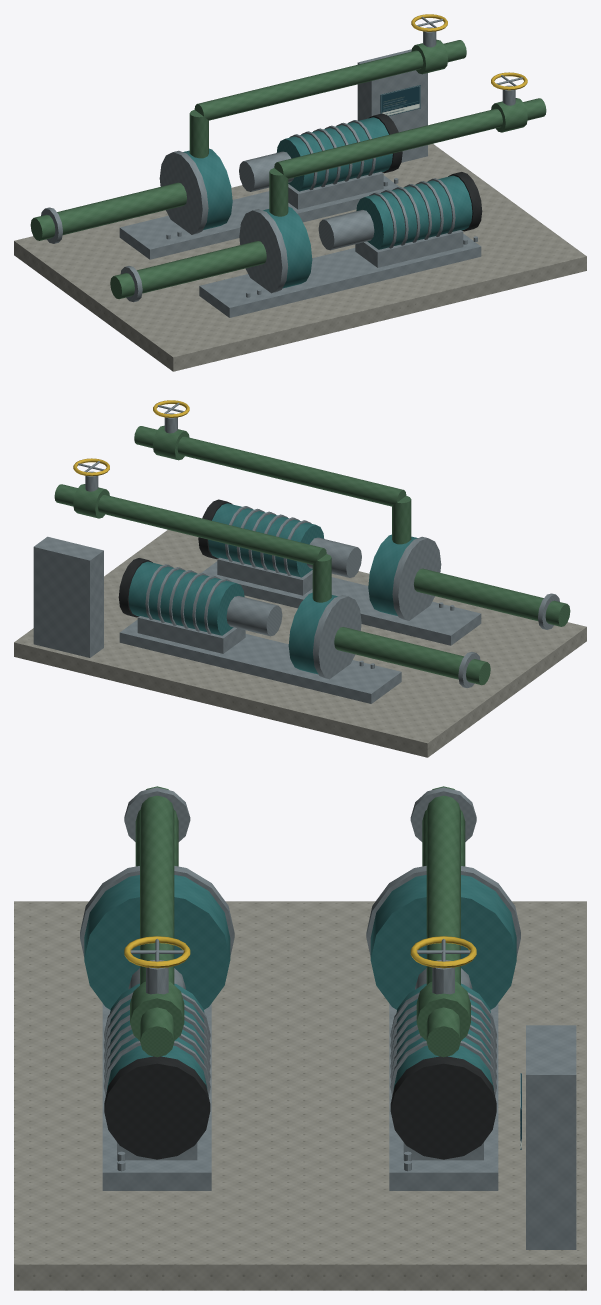
The model's file is PZ_CFW_04_Duplex_Pump_Skid.glb.
3 views of the same model, one above another, from view 1: azimuth 30°, elevation 25°; view 2: azimuth 150°, elevation 25°; view 3: azimuth 270°, elevation 25° (orthographic). The views are drawn at different scales.
Parts seen in each view (by area): view 1: PUMPS_DUPLEX_ConcreteMountingSlab, PUMPS_DUPLEX_PumpSet_1_Baseplate, PUMPS_DUPLEX_PumpSet_1_DischargeElbow, PUMPS_DUPLEX_PumpSet_2_DischargeElbow, PUMPS_DUPLEX_PumpSet_2_Baseplate, PUMPS_DUPLEX_PumpSet_1_ElectricMotor, PUMPS_DUPLEX_PumpSet_1_SuctionPipe, PUMPS_DUPLEX_PumpSet_2_SuctionPipe, PUMPS_DUPLEX_PumpSet_2_ElectricMotor, PUMPS_DUPLEX_ElectricalServiceControl_Cabinet, PUMPS_DUPLEX_PumpSet_2_VoluteFlange, PUMPS_DUPLEX_PumpSet_1_VoluteFlange (+13 smaller); view 2: PUMPS_DUPLEX_ConcreteMountingSlab, PUMPS_DUPLEX_ElectricalServiceControl_Cabinet, PUMPS_DUPLEX_PumpSet_2_Baseplate, PUMPS_DUPLEX_PumpSet_2_DischargeElbow, PUMPS_DUPLEX_PumpSet_1_DischargeElbow, PUMPS_DUPLEX_PumpSet_1_Baseplate, PUMPS_DUPLEX_PumpSet_2_ElectricMotor, PUMPS_DUPLEX_PumpSet_2_SuctionPipe, PUMPS_DUPLEX_PumpSet_1_SuctionPipe, PUMPS_DUPLEX_PumpSet_1_ElectricMotor, PUMPS_DUPLEX_PumpSet_1_VoluteFlange, PUMPS_DUPLEX_PumpSet_2_VoluteFlange (+12 smaller); view 3: PUMPS_DUPLEX_ConcreteMountingSlab, PUMPS_DUPLEX_ElectricalServiceControl_Cabinet, PUMPS_DUPLEX_PumpSet_1_VoluteHousing, PUMPS_DUPLEX_PumpSet_2_VoluteHousing, PUMPS_DUPLEX_PumpSet_1_MotorFanCap, PUMPS_DUPLEX_PumpSet_2_MotorFanCap, PUMPS_DUPLEX_PumpSet_1_DischargeElbow, PUMPS_DUPLEX_PumpSet_2_DischargeElbow, PUMPS_DUPLEX_PumpSet_1_Baseplate, PUMPS_DUPLEX_PumpSet_2_Baseplate, PUMPS_DUPLEX_PumpSet_1_ElectricMotor, PUMPS_DUPLEX_PumpSet_2_ElectricMotor (+8 smaller).
Part boxes in pixels (x1=…): PUMPS_DUPLEX_ConcreteMountingSlab: x1=14, y1=144, x2=586, y2=371; PUMPS_DUPLEX_PumpSet_1_Baseplate: x1=199, y1=233, x2=481, y2=317; PUMPS_DUPLEX_PumpSet_1_DischargeElbow: x1=274, y1=98, x2=546, y2=178; PUMPS_DUPLEX_PumpSet_2_DischargeElbow: x1=194, y1=40, x2=466, y2=120; PUMPS_DUPLEX_PumpSet_2_Baseplate: x1=119, y1=175, x2=399, y2=259; PUMPS_DUPLEX_PumpSet_1_ElectricMotor: x1=356, y1=175, x2=472, y2=249; PUMPS_DUPLEX_PumpSet_1_SuctionPipe: x1=110, y1=241, x2=266, y2=299; PUMPS_DUPLEX_PumpSet_2_SuctionPipe: x1=30, y1=182, x2=186, y2=240; PUMPS_DUPLEX_PumpSet_2_ElectricMotor: x1=276, y1=117, x2=392, y2=191; PUMPS_DUPLEX_ElectricalServiceControl_Cabinet: x1=357, y1=49, x2=427, y2=162; PUMPS_DUPLEX_PumpSet_2_VoluteFlange: x1=159, y1=150, x2=208, y2=234; PUMPS_DUPLEX_PumpSet_1_VoluteFlange: x1=239, y1=209, x2=288, y2=293; PUMPS_DUPLEX_ConcreteMountingSlab: x1=14, y1=530, x2=586, y2=757; PUMPS_DUPLEX_ElectricalServiceControl_Cabinet: x1=33, y1=536, x2=103, y2=657; PUMPS_DUPLEX_PumpSet_2_Baseplate: x1=119, y1=619, x2=401, y2=703; PUMPS_DUPLEX_PumpSet_2_DischargeElbow: x1=54, y1=484, x2=326, y2=564; PUMPS_DUPLEX_PumpSet_1_DischargeElbow: x1=134, y1=426, x2=406, y2=506; PUMPS_DUPLEX_PumpSet_1_Baseplate: x1=201, y1=561, x2=481, y2=645; PUMPS_DUPLEX_PumpSet_2_ElectricMotor: x1=128, y1=561, x2=244, y2=635; PUMPS_DUPLEX_PumpSet_2_SuctionPipe: x1=334, y1=627, x2=490, y2=685; PUMPS_DUPLEX_PumpSet_1_SuctionPipe: x1=414, y1=568, x2=570, y2=626; PUMPS_DUPLEX_PumpSet_1_ElectricMotor: x1=208, y1=503, x2=324, y2=577; PUMPS_DUPLEX_PumpSet_1_VoluteFlange: x1=392, y1=536, x2=441, y2=620; PUMPS_DUPLEX_PumpSet_2_VoluteFlange: x1=312, y1=595, x2=361, y2=679; PUMPS_DUPLEX_ConcreteMountingSlab: x1=14, y1=901, x2=586, y2=1290; PUMPS_DUPLEX_ElectricalServiceControl_Cabinet: x1=526, y1=1025, x2=576, y2=1249; PUMPS_DUPLEX_PumpSet_1_VoluteHousing: x1=84, y1=875, x2=230, y2=1009; PUMPS_DUPLEX_PumpSet_2_VoluteHousing: x1=370, y1=875, x2=516, y2=1009; PUMPS_DUPLEX_PumpSet_1_MotorFanCap: x1=104, y1=1056, x2=210, y2=1159; PUMPS_DUPLEX_PumpSet_2_MotorFanCap: x1=390, y1=1056, x2=496, y2=1159; PUMPS_DUPLEX_PumpSet_1_DischargeElbow: x1=140, y1=795, x2=174, y2=1057; PUMPS_DUPLEX_PumpSet_2_DischargeElbow: x1=426, y1=795, x2=460, y2=1057; PUMPS_DUPLEX_PumpSet_1_Baseplate: x1=102, y1=1003, x2=211, y2=1190; PUMPS_DUPLEX_PumpSet_2_Baseplate: x1=389, y1=1003, x2=498, y2=1190; PUMPS_DUPLEX_PumpSet_1_ElectricMotor: x1=107, y1=983, x2=207, y2=1090; PUMPS_DUPLEX_PumpSet_2_ElectricMotor: x1=393, y1=983, x2=493, y2=1090.
Bounding box in the file's own units: 6.25 × 2.37 × 4.
Materials: 7 (7 with a texture image).
